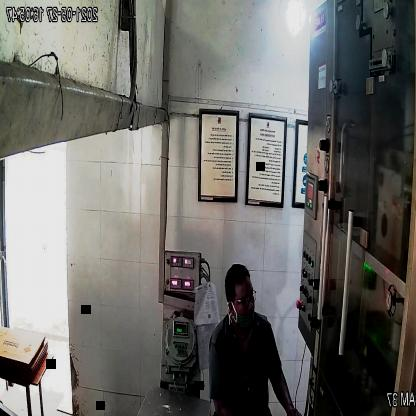goggles: (230, 286, 258, 308)
